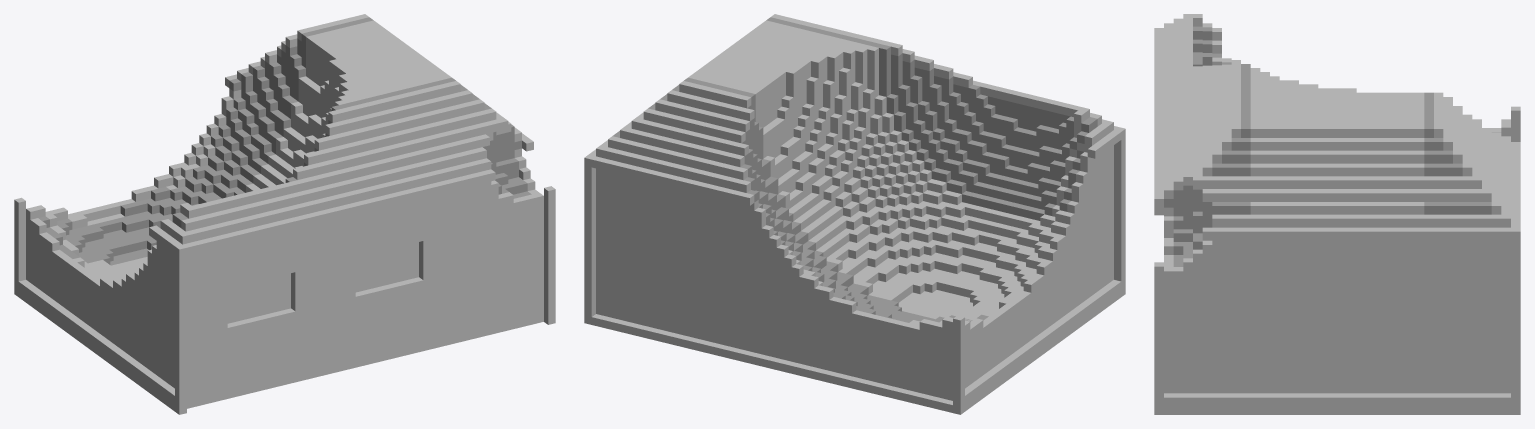
Rendered from church6-24.obj.
The picture shows the model from 3 angles, left to right: view 1: azimuth 30°, elevation 25°; view 2: azimuth 150°, elevation 25°; view 3: azimuth 270°, elevation 25°; orthographic projection. The views are drawn at different scales.
Parts seen in each view (by area): view 1: church6-24; view 2: church6-24; view 3: church6-24.
Boxes of the visible parts, x1,y1,x2,y2 form: church6-24: (14, 14, 555, 414); church6-24: (584, 14, 1125, 414); church6-24: (1154, 14, 1520, 414).
Size of the model in its own units: 50 by 29 by 38.
1 material, 1 textured.
